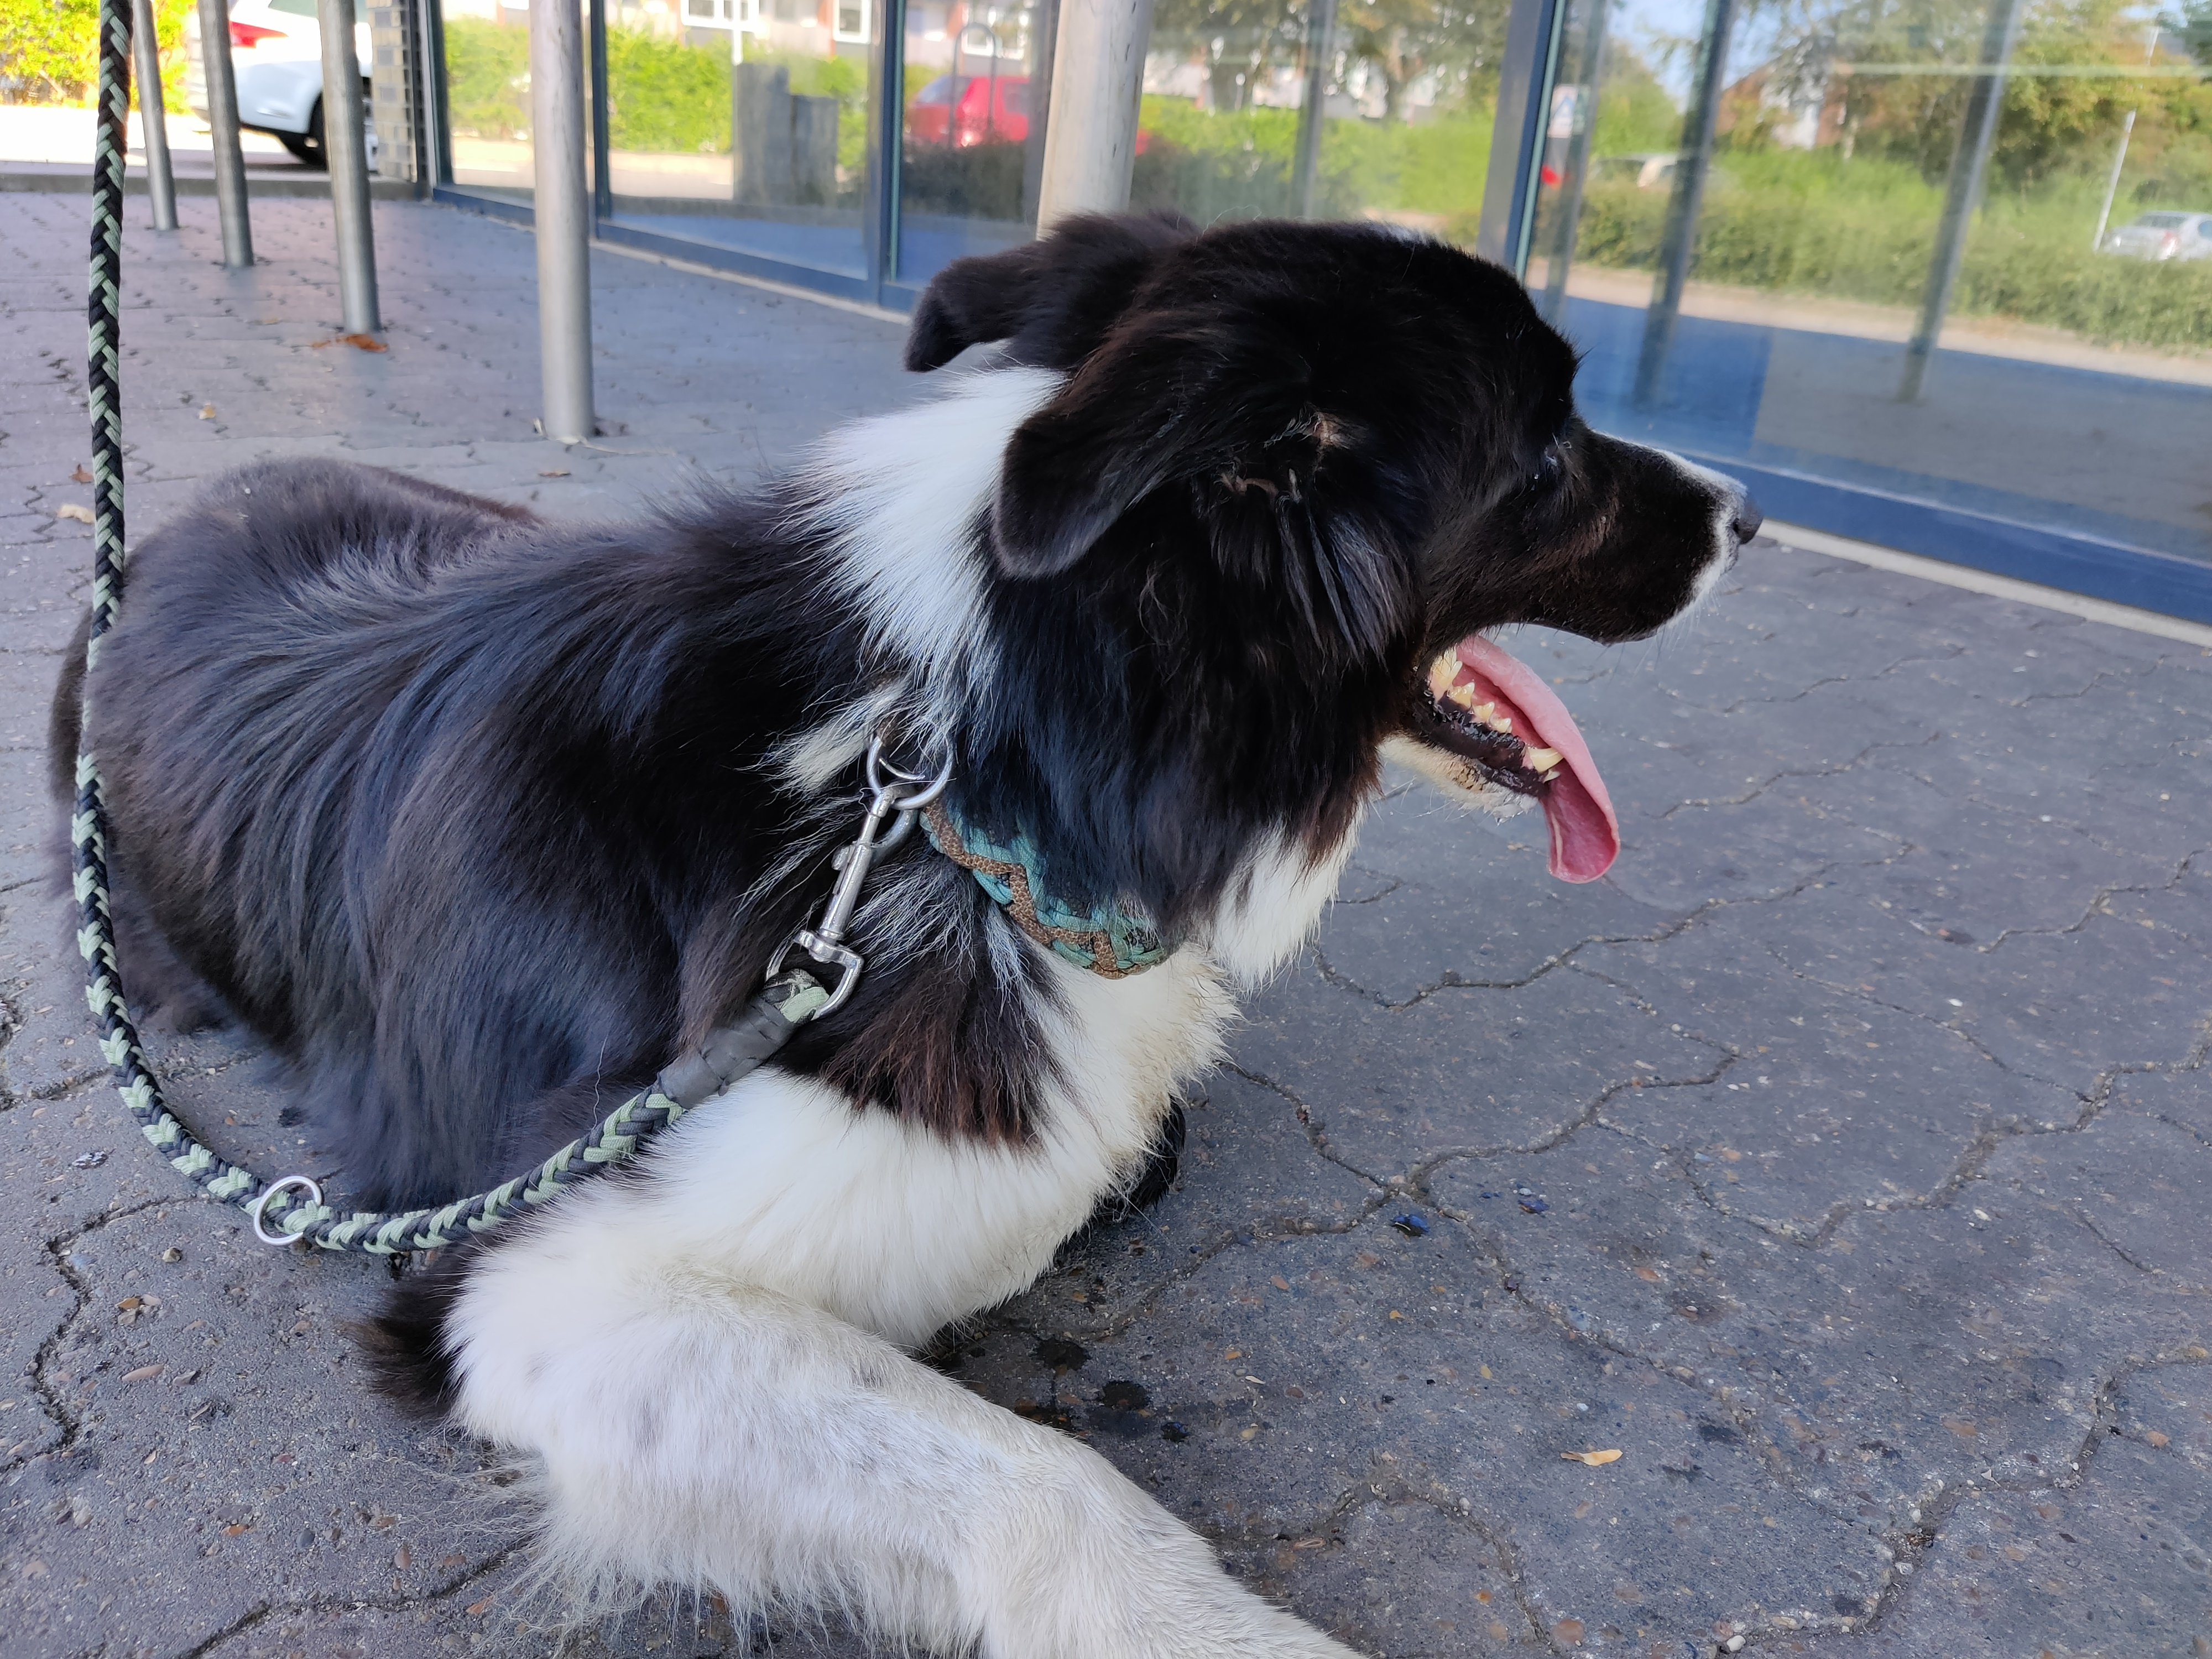Dog: (45, 202, 1764, 1659)
